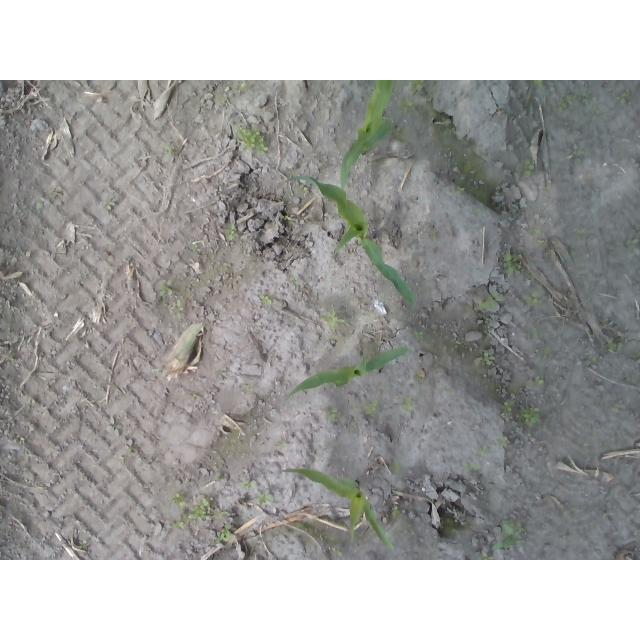Maize: (281, 175, 421, 310), (275, 467, 394, 551), (285, 337, 410, 397), (337, 80, 396, 192)
Weeds: (492, 521, 524, 549), (239, 126, 269, 154), (189, 496, 213, 521), (477, 292, 505, 310), (518, 409, 542, 428), (104, 414, 121, 439), (323, 312, 345, 329), (500, 252, 518, 272), (557, 96, 576, 113), (170, 493, 193, 507), (500, 400, 517, 417), (522, 158, 536, 178), (565, 144, 583, 159), (407, 81, 425, 96), (168, 517, 188, 530), (158, 280, 174, 296), (224, 222, 236, 242), (606, 340, 623, 353), (481, 352, 494, 369), (175, 299, 185, 321), (527, 291, 542, 305), (399, 97, 413, 112), (400, 398, 416, 411), (615, 90, 631, 103), (162, 144, 174, 161), (240, 478, 257, 490), (626, 237, 639, 251), (324, 407, 338, 420), (365, 400, 379, 413), (529, 228, 548, 237), (218, 528, 231, 541), (464, 462, 480, 471), (260, 295, 272, 306), (496, 437, 508, 448), (102, 201, 115, 211), (260, 494, 273, 503), (482, 552, 495, 561), (535, 377, 546, 387), (391, 506, 401, 515), (535, 80, 545, 88)
